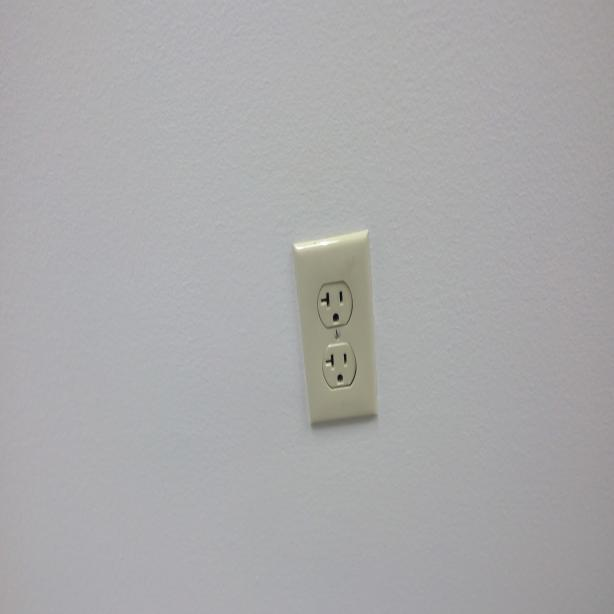typeb: (321, 280, 351, 330), (323, 349, 352, 394)
